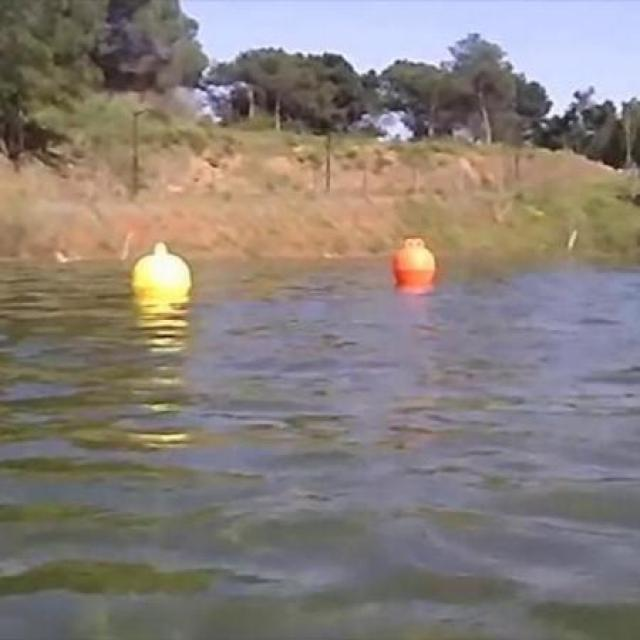buoy: (131, 242, 193, 298), (392, 238, 437, 288)
